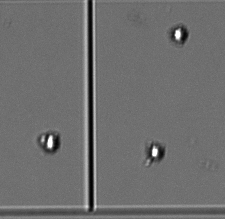Living Cell: (168, 24, 189, 46), (40, 131, 59, 154), (146, 141, 164, 162)
